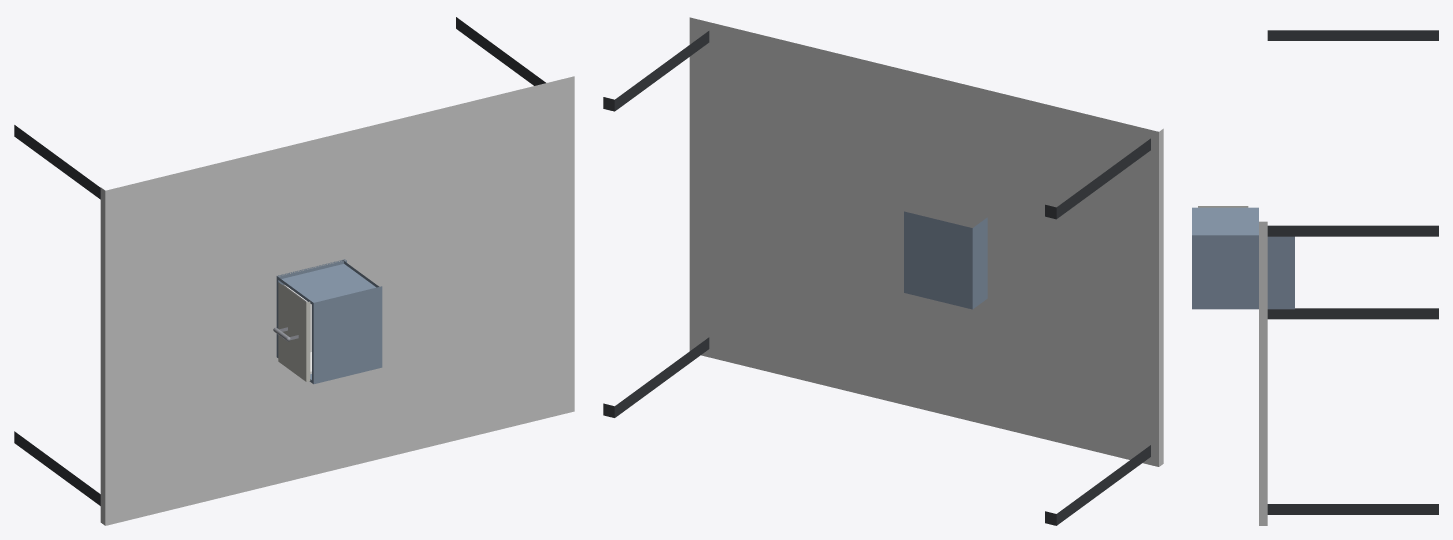
3 renders of one model, left to right at view 1: azimuth 30°, elevation 25°; view 2: azimuth 150°, elevation 25°; view 3: azimuth 270°, elevation 25°, orthographic. The views are drawn at different scales.
Visible parts, largest first — view 1: s0, s1, s2; view 2: s0, s1; view 3: s0, s1.
Boxes of the visible parts, left/top/right/bottom form: s0: left=14, top=17, right=574, bottom=525; s1: left=276, top=259, right=382, bottom=384; s2: left=273, top=282, right=311, bottom=381; s0: left=603, top=17, right=1163, bottom=525; s1: left=904, top=211, right=987, bottom=309; s0: left=1259, top=30, right=1438, bottom=525; s1: left=1192, top=207, right=1294, bottom=309.
Bounding box in the file's own units: 2.05 × 1.4 × 1.03.
